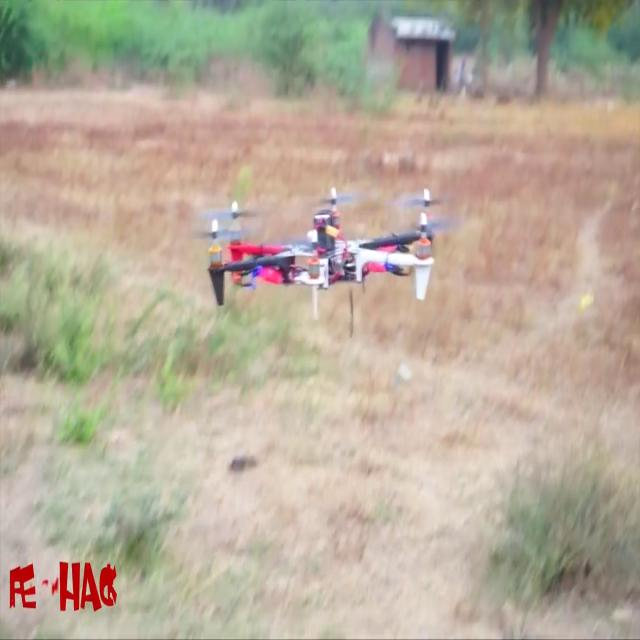drone: (182, 166, 456, 354)
